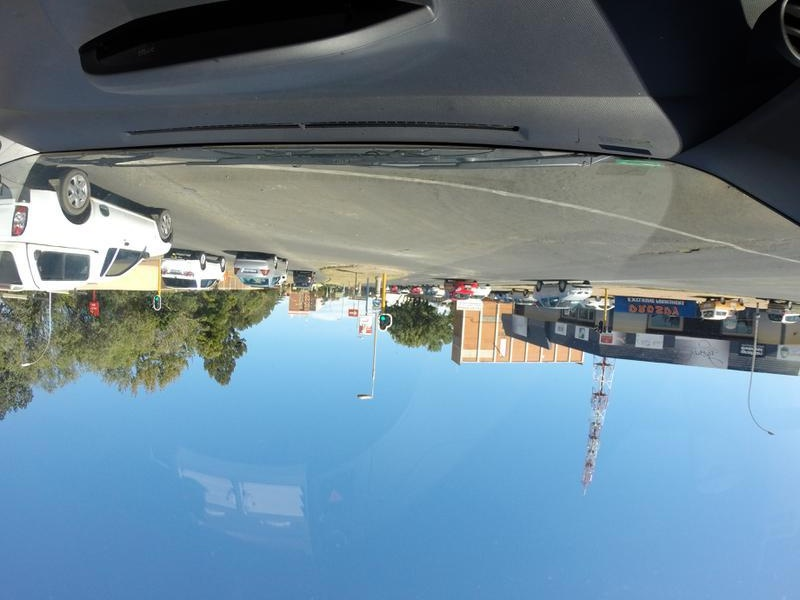pothole: (632, 241, 705, 264), (397, 245, 413, 255)
